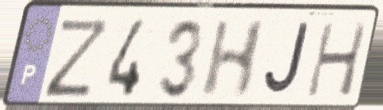3: (158, 16, 208, 102)
4: (103, 17, 148, 100)
H: (197, 17, 270, 101), (303, 20, 371, 100)
J: (261, 20, 312, 99)
Z: (42, 16, 114, 100)
